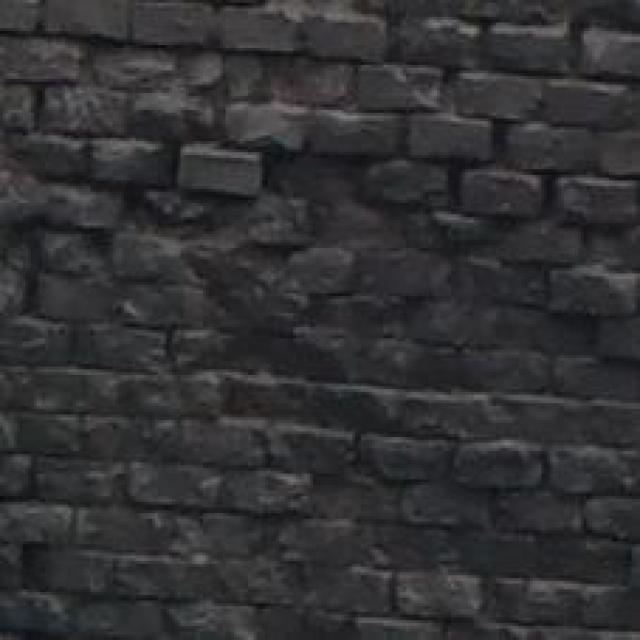Crack: (6, 47, 640, 465)
